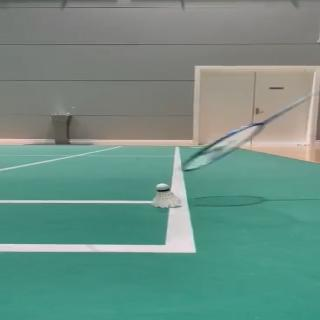Shuttle: (149, 184, 184, 208)
